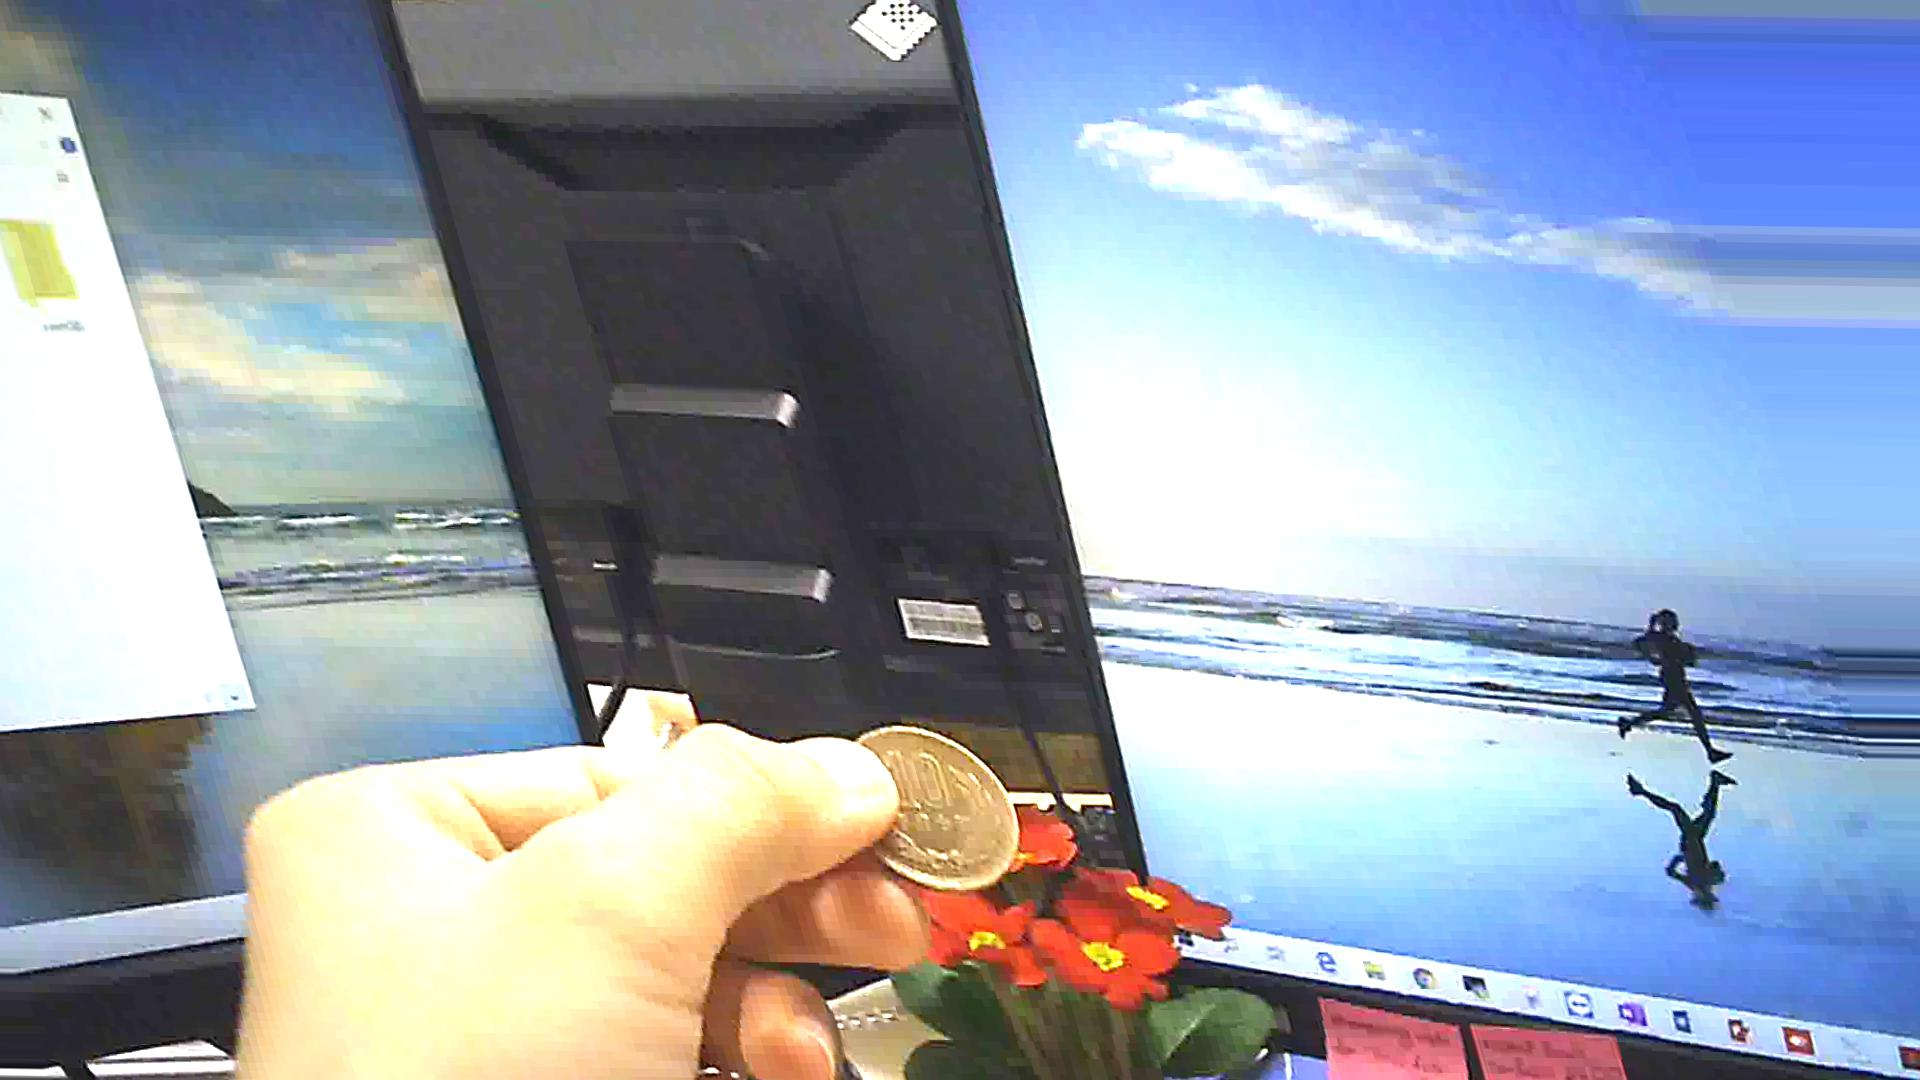10 Yen: (837, 716, 1025, 916)
